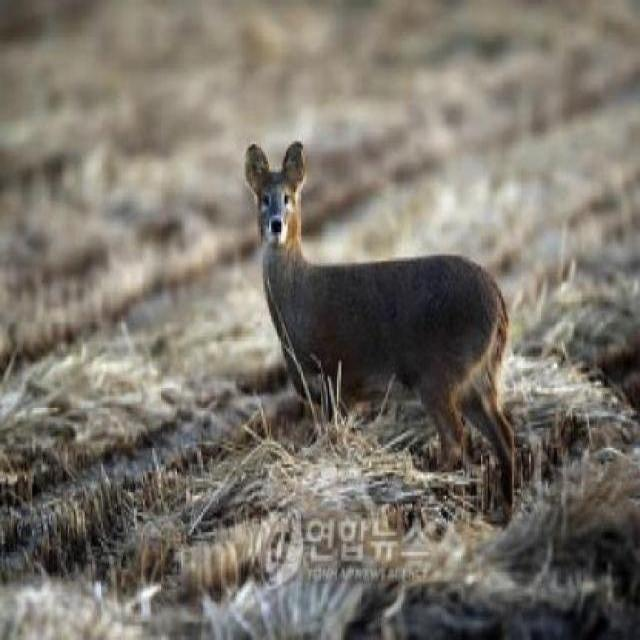deer: (238, 123, 556, 512)
